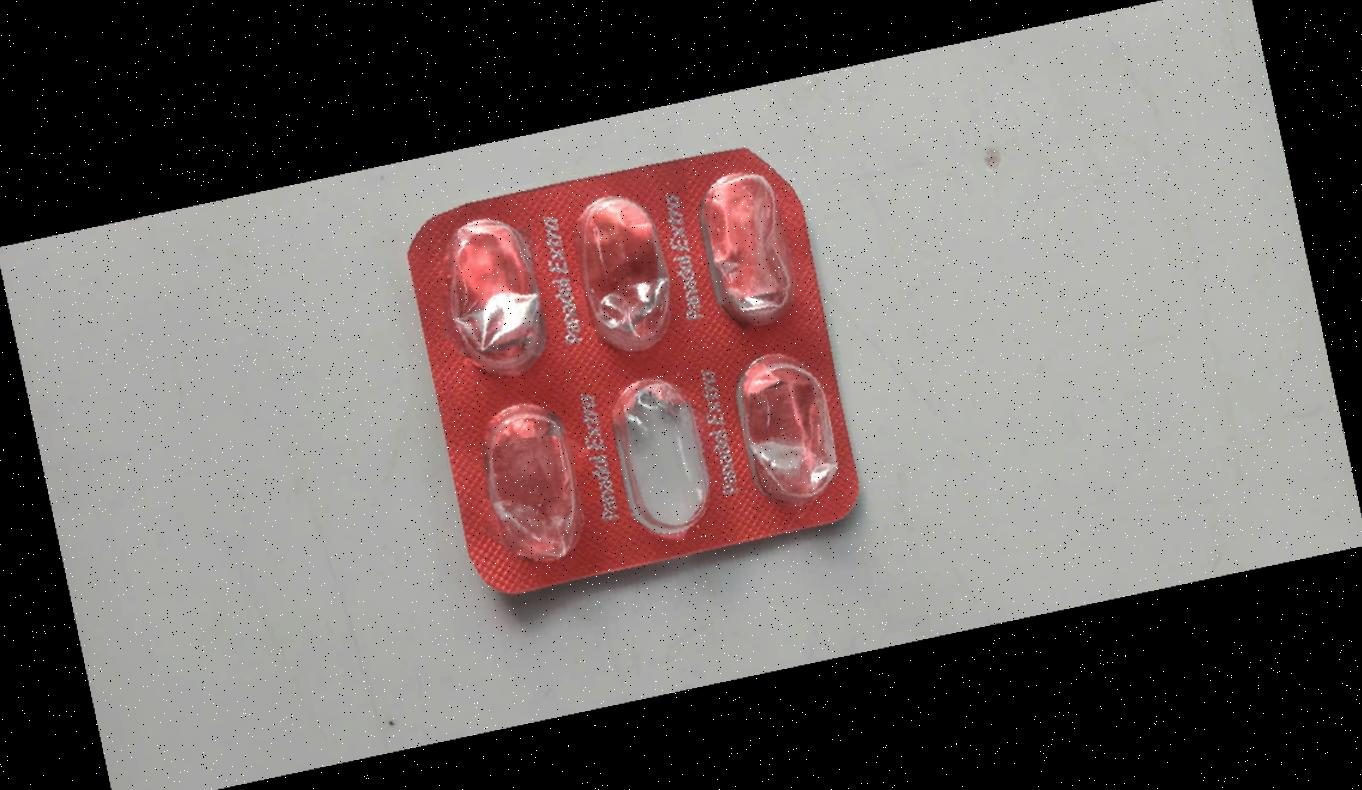Empty: (432, 205, 556, 383), (682, 159, 806, 337), (474, 392, 598, 569), (723, 340, 847, 517), (563, 184, 686, 361), (598, 368, 721, 545)
